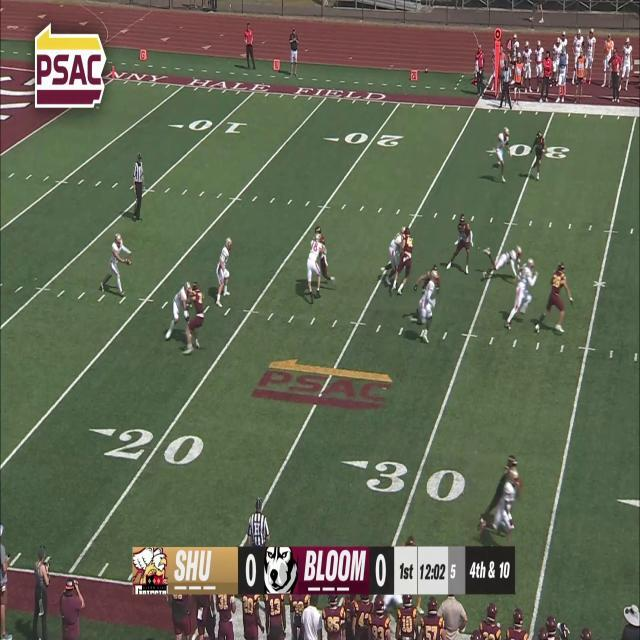football: (125, 257, 132, 266)
